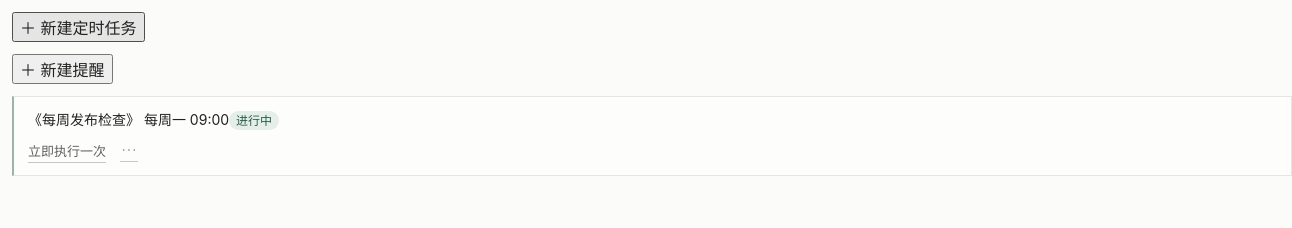
Test: A3 Fix 2：「立即执行一次」的失败逐类指名（不再塌成一句话） › 网络失败：如实说没提交成功、连不上本地服务（不是「请重试」就完事）
Click the button "立即执行一次" at (67, 151), box x1=28 y1=139 x2=106 y2=163
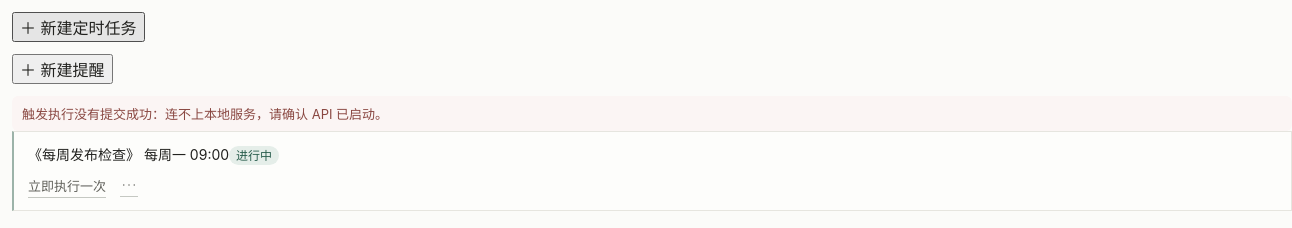
expect the message "触发执行没有提交成功：连不上本地服务，请确认 API 已启动。" is shown: met, box x1=12 y1=96 x2=1291 y2=131
